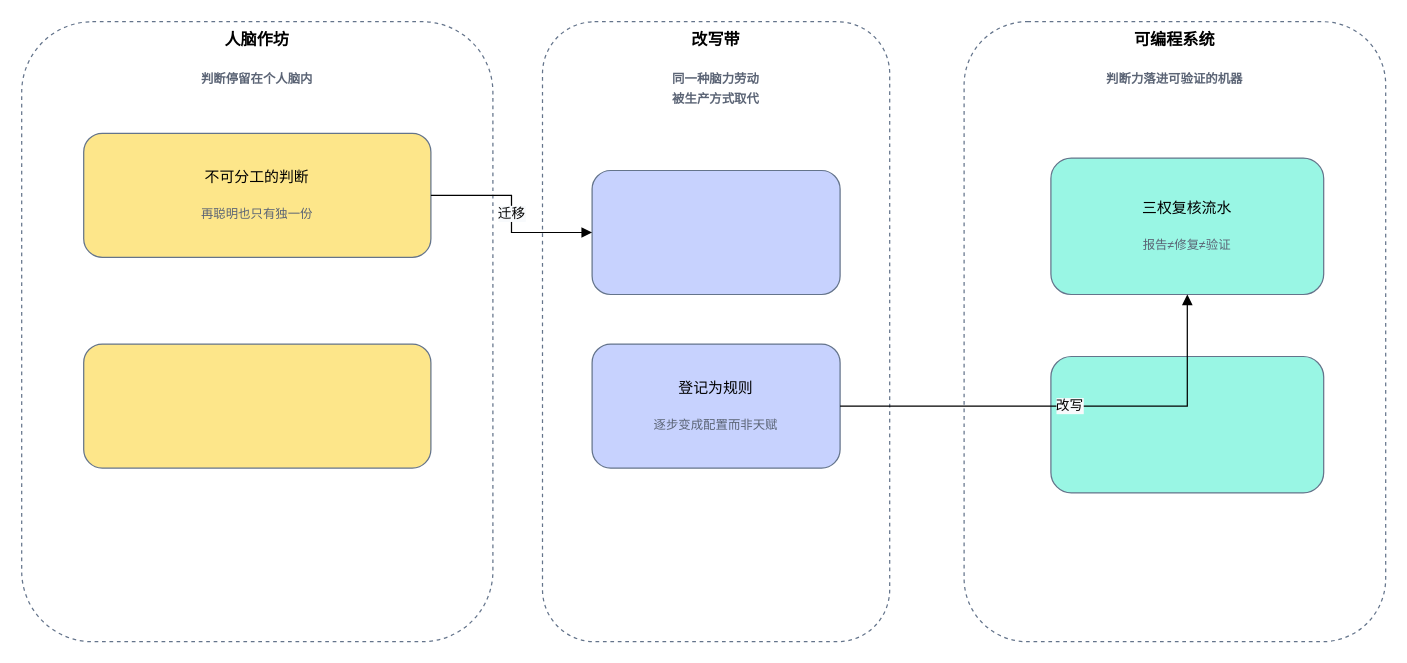
The diagram is 1407 pixels wide and 663 high, and some of its shapes have lost their labels. Each missing label, with the centre of its shape:
拆分粒化 判断切成可复现步骤: the point at 715,231
留痕账本 每一步都能回放: the point at 1187,424
经验私有 不可校验 · 无法审计: the point at 256,405
